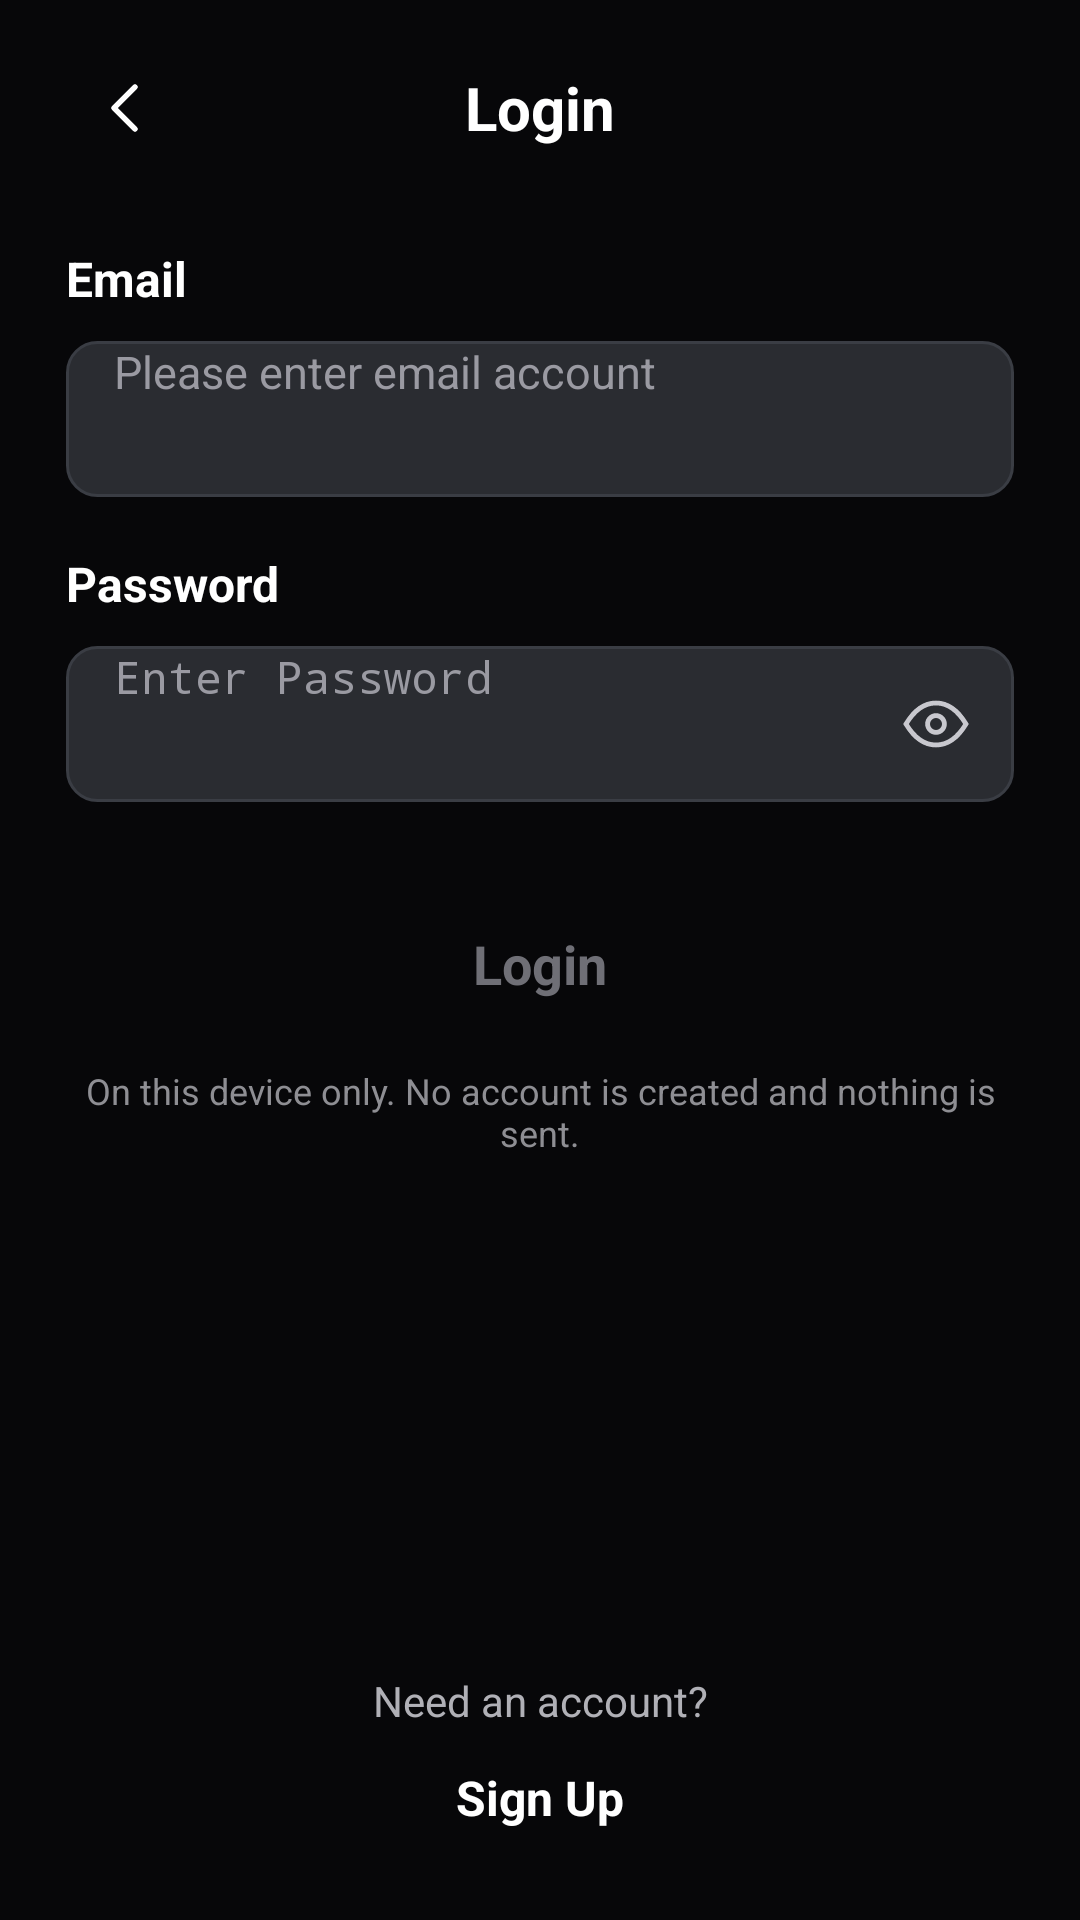

Screen size 1080w x 1920h. Icon name, then its box in pixels as (x1, y1, x2, y2):
Back: (111, 84, 138, 132)
Show password: (903, 700, 969, 748)
